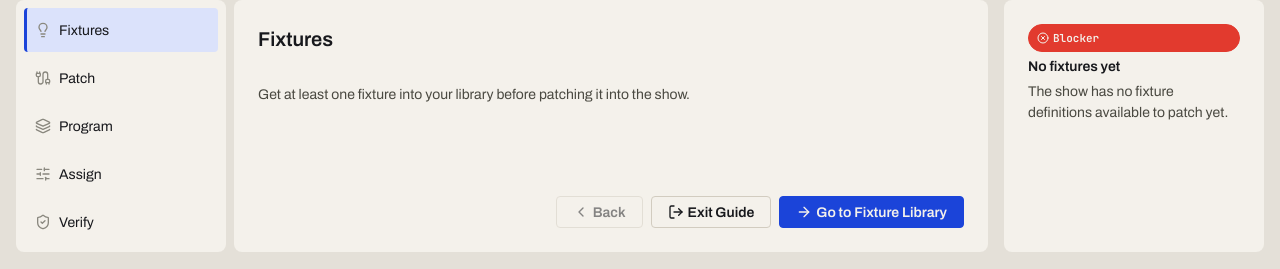
Test: GuidedFirstShow › Fixtures stage reports a blocker with an empty library and evidence with a populated one
Check: the text "Blocker" is shown, box [1028,24,1240,52]
Click the button "Patch".
click(121, 78)  # box [24,56,218,100]
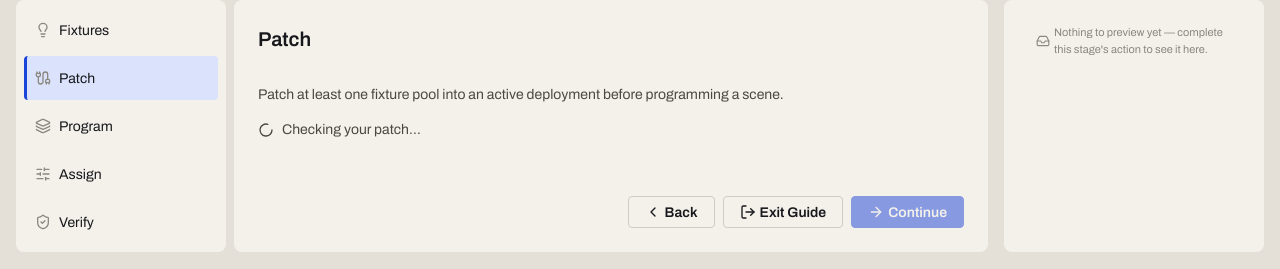
Click the button "Fixtures".
click(121, 30)  # box [24,8,218,52]
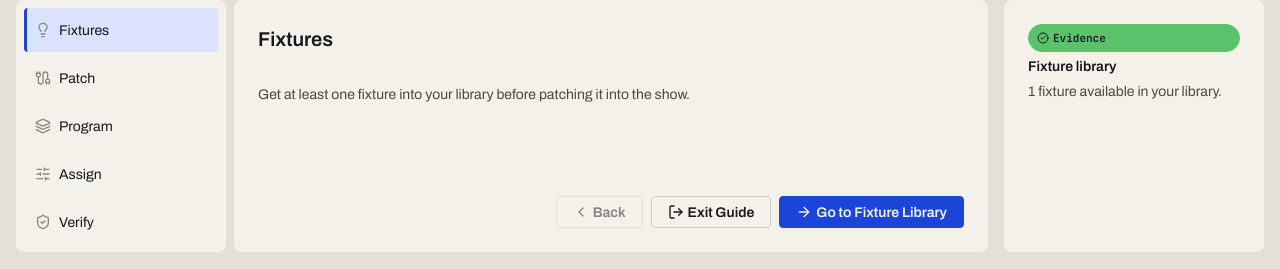
Check: the text "Evidence" is shown, box [1028,24,1240,52]
